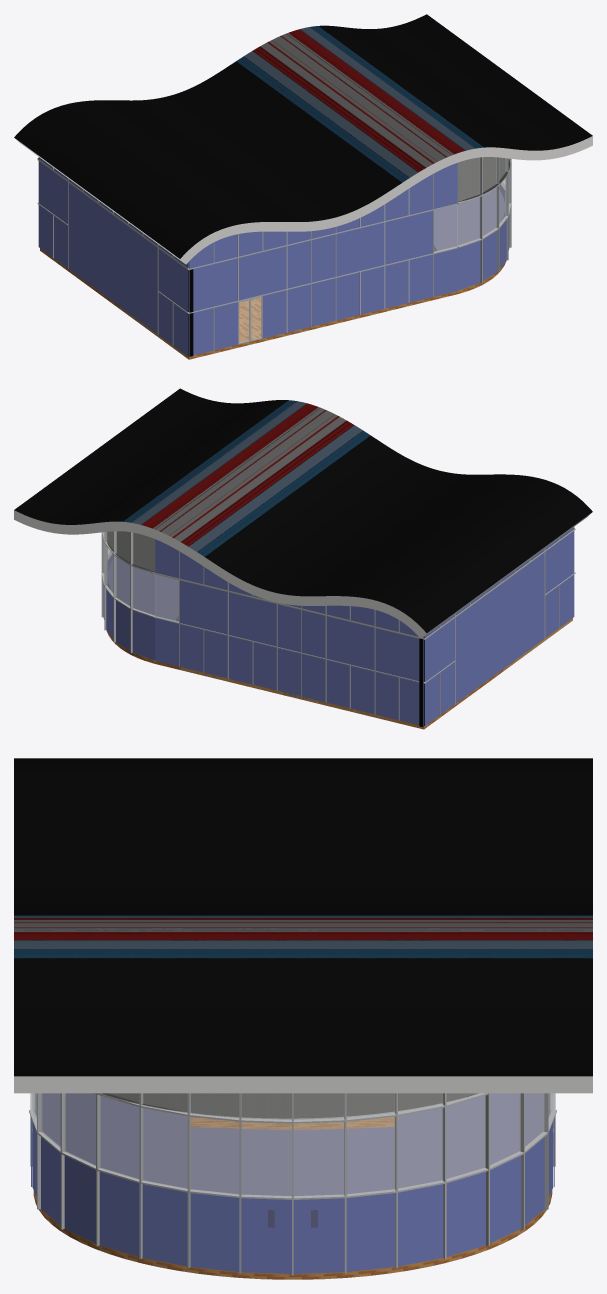
File: class.glb
3 renders of one model, top to bottom at view 1: azimuth 30°, elevation 25°; view 2: azimuth 150°, elevation 25°; view 3: azimuth 270°, elevation 25°, orthographic. The views are drawn at different scales.
Visible parts, largest first — view 1: Roofs, Curtain Panels, Curtain Wall Mullions, Landings, Floors, Ceilings, Doors, Wall; view 2: Roofs, Curtain Panels, Curtain Wall Mullions, Landings, Ceilings, Floors, Wall; view 3: Roofs, Curtain Panels, Landings, Curtain Wall Mullions, Ceilings, Runs, Floors.
Part boxes in pixels (left/top/right/bottom): Roofs: left=14, top=14, right=592, bottom=264; Curtain Panels: left=38, top=157, right=509, bottom=356; Curtain Wall Mullions: left=37, top=157, right=511, bottom=350; Landings: left=434, top=188, right=505, bottom=251; Floors: left=40, top=248, right=506, bottom=359; Ceilings: left=37, top=157, right=510, bottom=268; Doors: left=238, top=296, right=262, bottom=344; Wall: left=188, top=269, right=193, bottom=356; Roofs: left=14, top=388, right=592, bottom=638; Curtain Panels: left=103, top=527, right=574, bottom=726; Curtain Wall Mullions: left=101, top=528, right=575, bottom=720; Landings: left=108, top=557, right=178, bottom=621; Ceilings: left=107, top=528, right=574, bottom=639; Floors: left=106, top=618, right=572, bottom=729; Wall: left=419, top=638, right=424, bottom=726; Roofs: left=14, top=758, right=592, bottom=1093; Curtain Panels: left=31, top=1093, right=554, bottom=1273; Landings: left=35, top=1110, right=550, bottom=1227; Curtain Wall Mullions: left=29, top=1093, right=556, bottom=1275; Ceilings: left=99, top=1093, right=480, bottom=1119; Runs: left=35, top=1093, right=550, bottom=1126; Floors: left=33, top=1116, right=552, bottom=1279.
Size of the model in its own units: 23.67 by 8.18 by 16.5.
14 materials, 5 textured.
